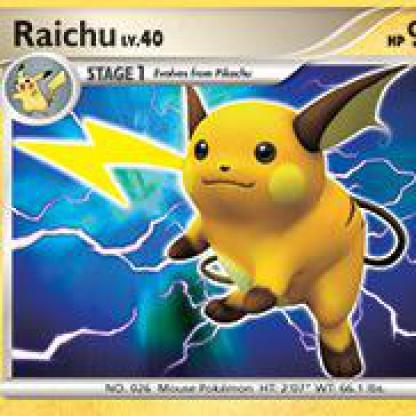Raichu: (1, 22, 415, 415)
